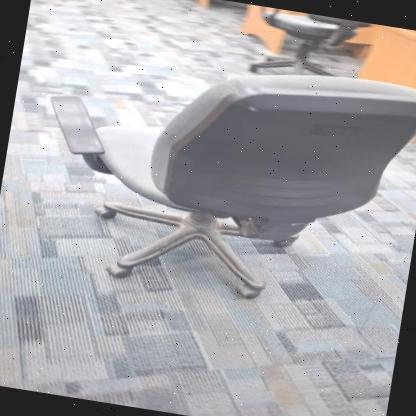chair: (14, 20, 416, 335)
